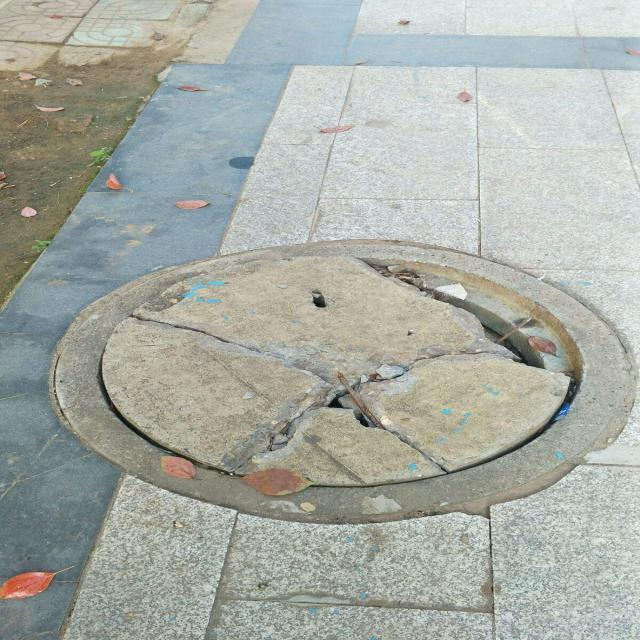Faulty: (53, 240, 635, 528)
